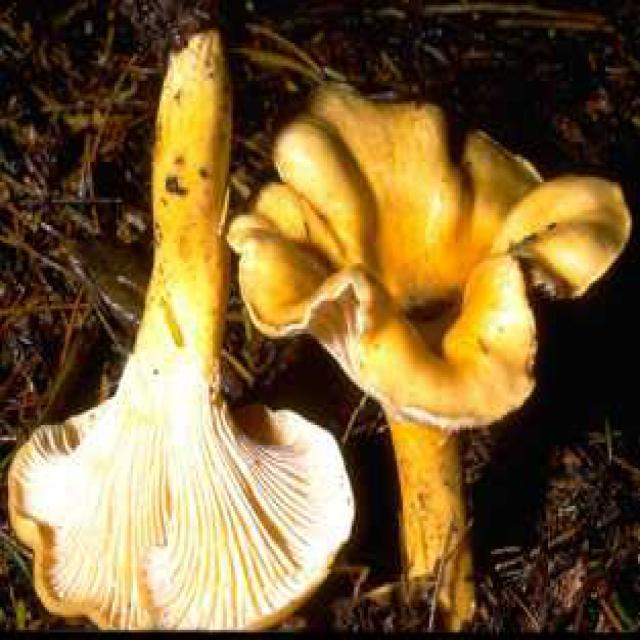Cantharellus cibarius: (230, 78, 631, 613), (13, 34, 353, 632)
